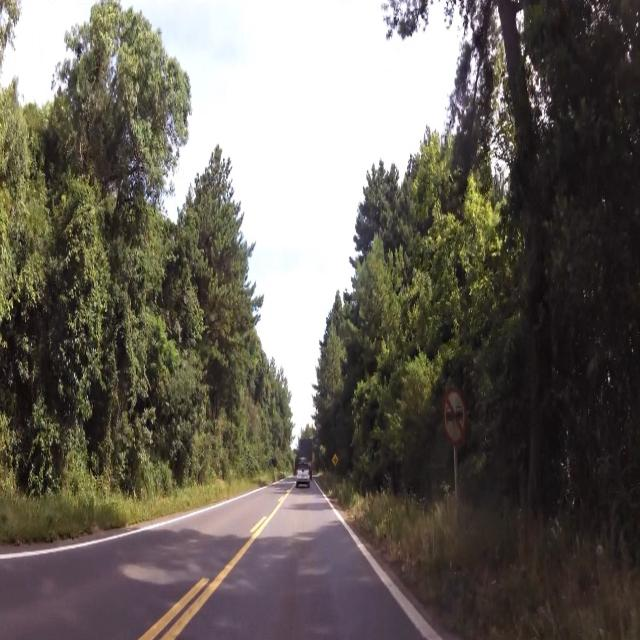R-19: (441, 388, 472, 444)
